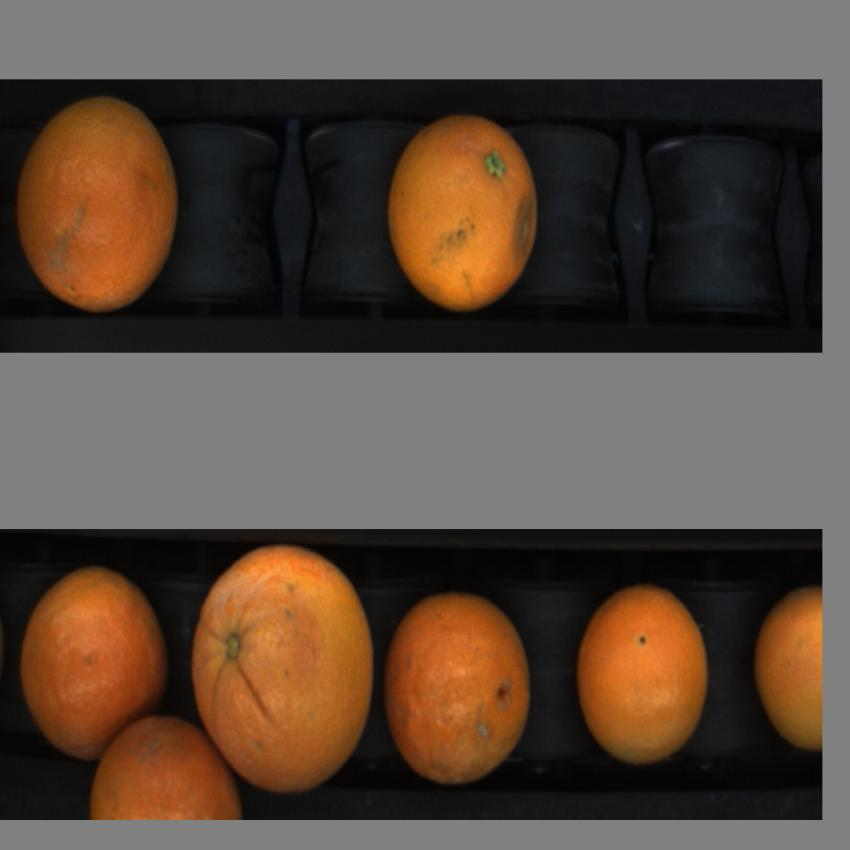Buen estado: (182, 543, 382, 792), (11, 94, 189, 308), (17, 560, 170, 764), (572, 585, 712, 764), (88, 710, 244, 822), (748, 582, 824, 763)
Mal estado: (383, 115, 548, 321), (379, 591, 544, 791)
